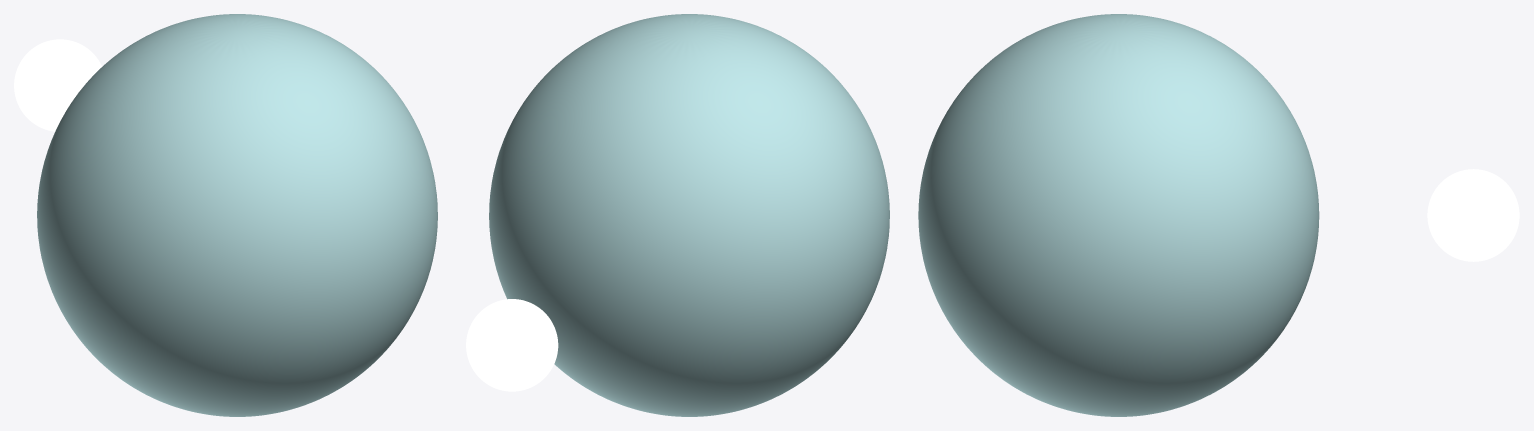
Rendered from hydrogen.glb.
The picture shows the model from 3 angles, left to right: view 1: azimuth 30°, elevation 25°; view 2: azimuth 150°, elevation 25°; view 3: azimuth 270°, elevation 25°; orthographic projection.
Parts seen in each view (by area): view 1: hydrogen, electron; view 2: hydrogen, electron; view 3: hydrogen, electron.
Boxes of the visible parts, x1=… form: hydrogen: x1=37, y1=14, x2=437, y2=416; electron: x1=14, y1=39, x2=101, y2=131; hydrogen: x1=489, y1=14, x2=889, y2=416; electron: x1=466, y1=299, x2=558, y2=391; hydrogen: x1=918, y1=14, x2=1319, y2=416; electron: x1=1427, y1=169, x2=1519, y2=261.
Size of the model in its own units: 4.76 by 4.81 by 7.13.
